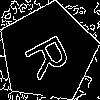R: (22, 28, 80, 82)
